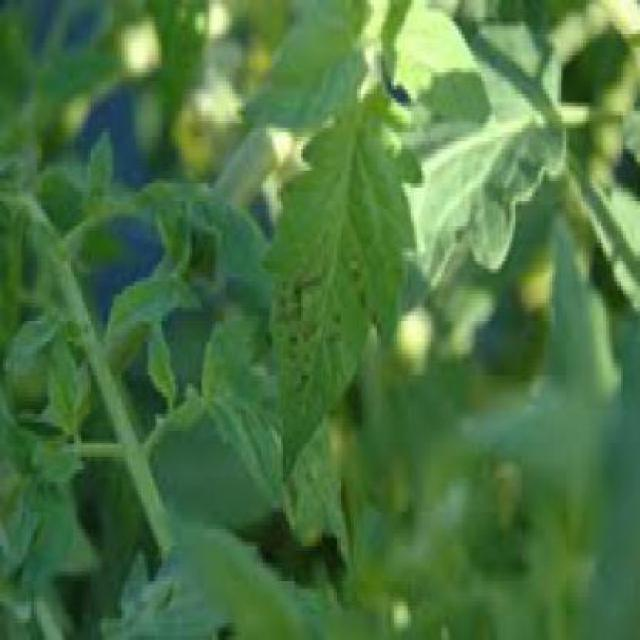Tomato late blight leaf: (258, 64, 431, 496)
